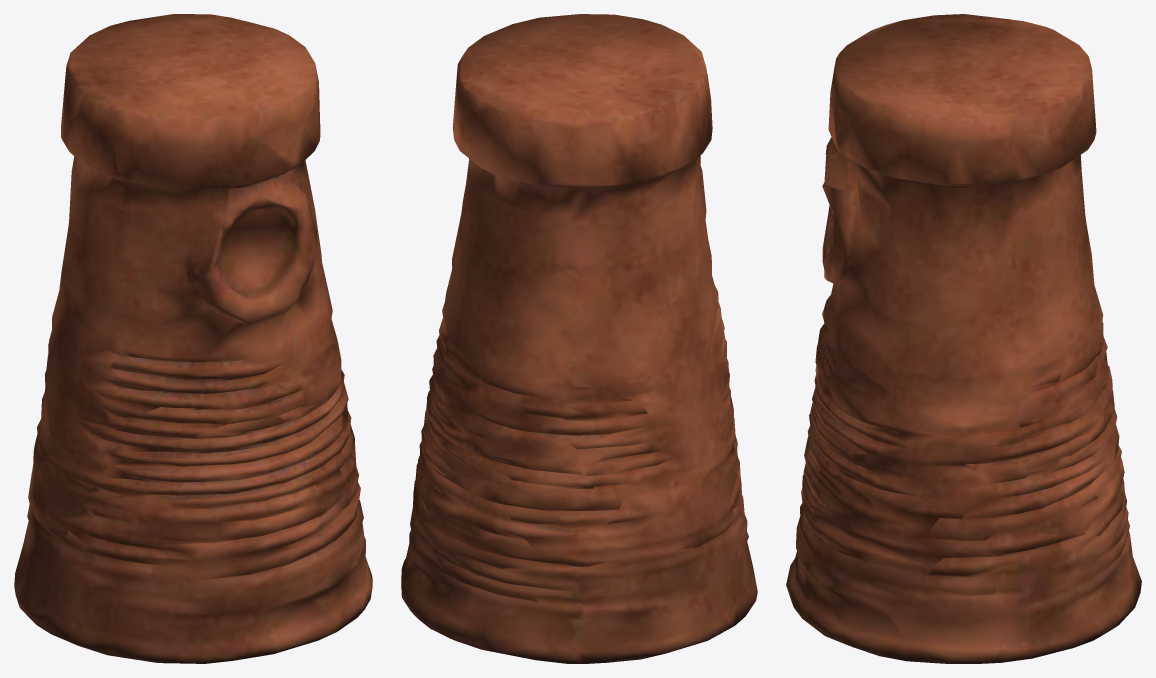
The model's file is plain-terracotta-turret-top-v002.glb.
3 renders of one model, left to right at view 1: azimuth 30°, elevation 25°; view 2: azimuth 150°, elevation 25°; view 3: azimuth 270°, elevation 25°, orthographic.
Visible parts, largest first — view 1: plain-terracotta-turret-top; view 2: plain-terracotta-turret-top; view 3: plain-terracotta-turret-top.
Boxes of the visible parts, x1,y1,x2,y2 form: plain-terracotta-turret-top: (14,14,372,663); plain-terracotta-turret-top: (401,14,757,663); plain-terracotta-turret-top: (786,14,1141,663).
Bounding box in the file's own units: 1.38 × 2.22 × 1.36.
Materials: 1 (1 with a texture image).
